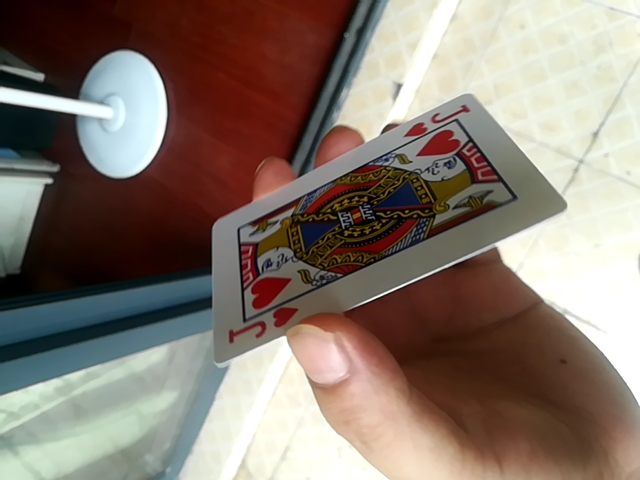hx j: (207, 93, 570, 368)
